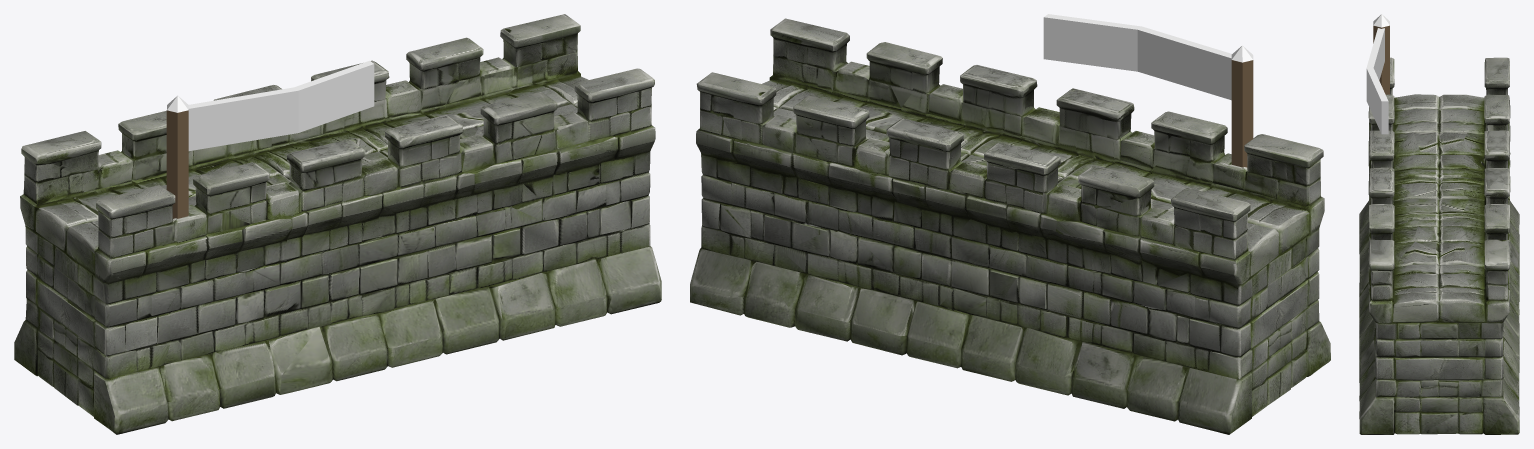
The picture shows the model from 3 angles, left to right: view 1: azimuth 30°, elevation 25°; view 2: azimuth 150°, elevation 25°; view 3: azimuth 270°, elevation 25°; orthographic projection. The views are drawn at different scales.
Visible parts, largest first — view 1: stone_wall, Team_banner; view 2: stone_wall, Team_banner; view 3: stone_wall, Team_banner.
Boxes of the visible parts, box(x1,y1,x2,y2) form: stone_wall: box(14, 14, 661, 434); Team_banner: box(166, 60, 374, 218); stone_wall: box(690, 18, 1330, 434); Team_banner: box(1043, 14, 1253, 167); stone_wall: box(1359, 57, 1519, 434); Team_banner: box(1366, 14, 1389, 134).
Size of the model in its own units: 1.9 by 1.03 by 0.618.
3 materials, 1 textured.
